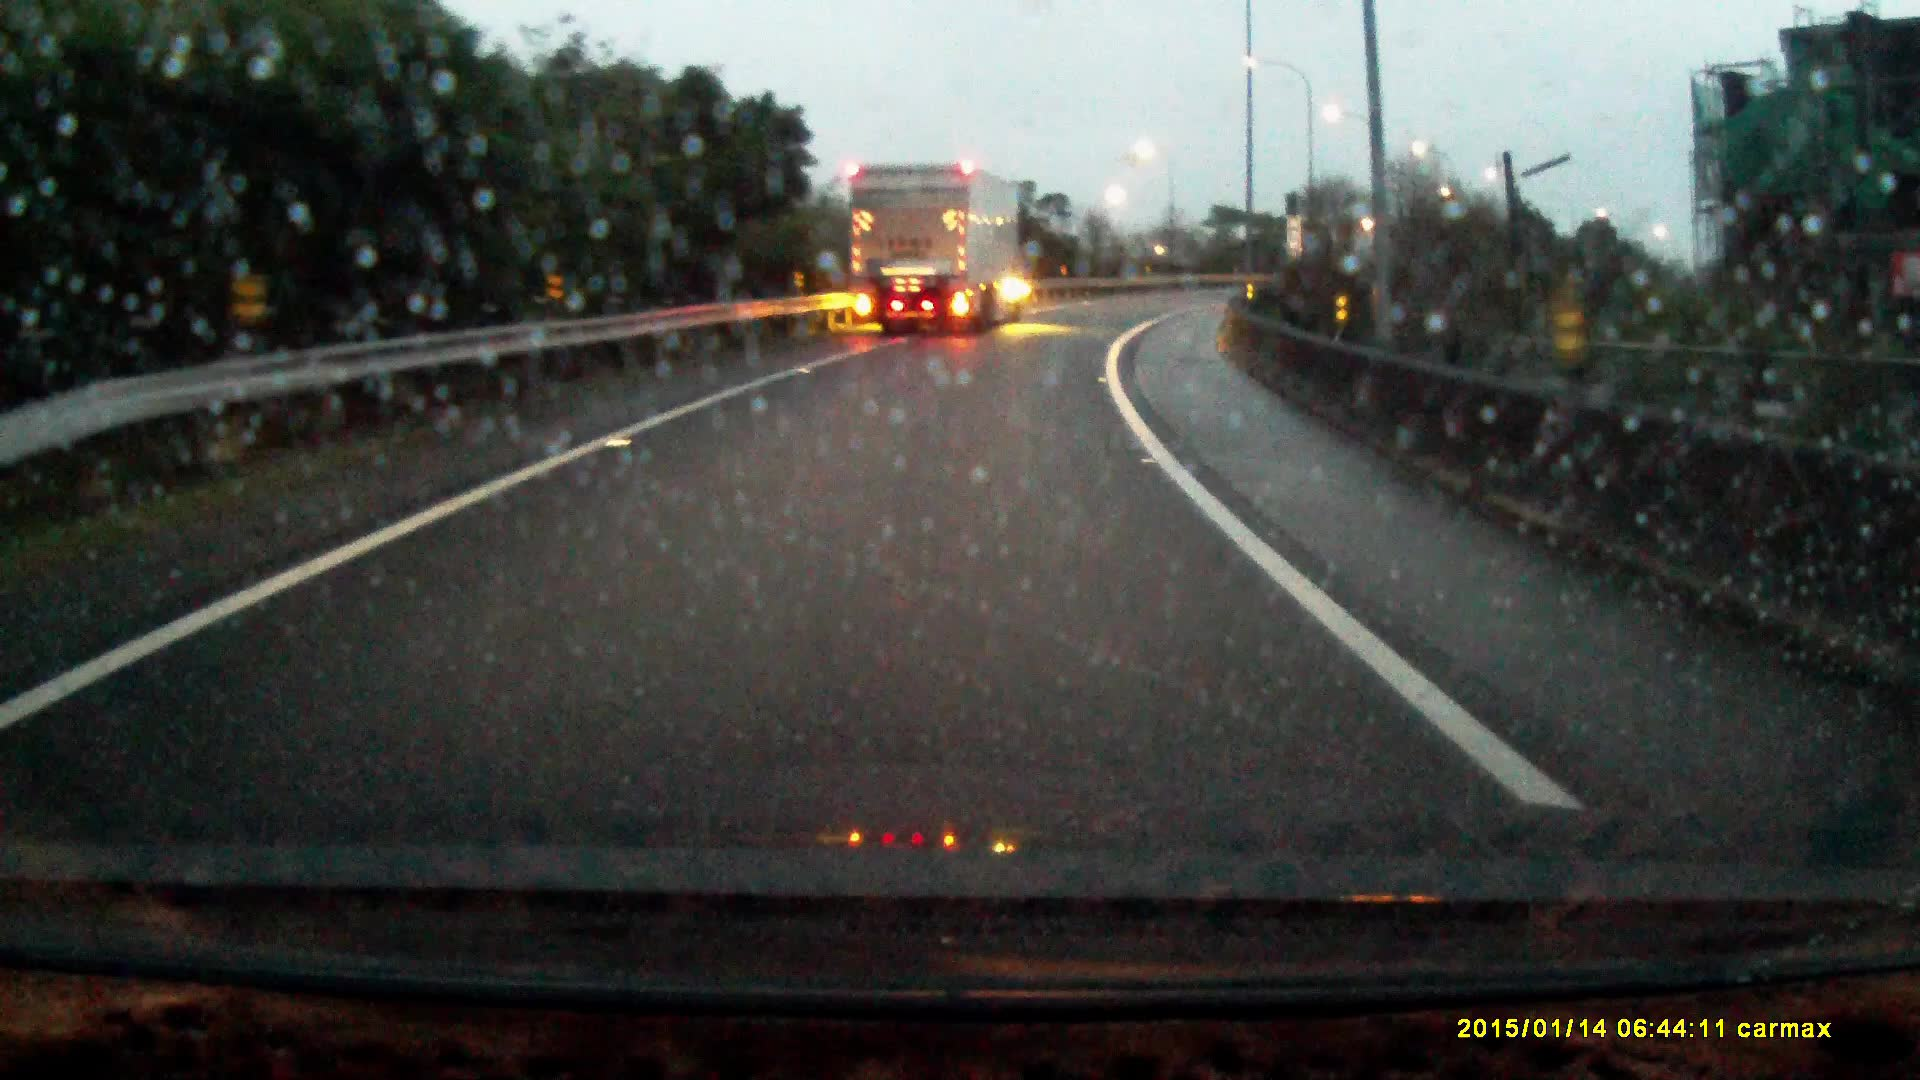vehicle: (856, 164, 1026, 334)
